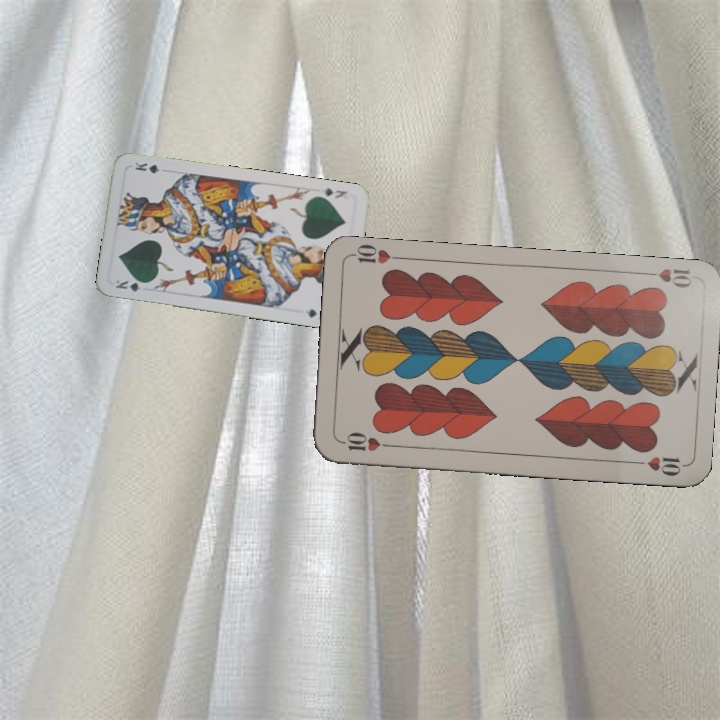GK: (112, 275, 151, 294), (317, 184, 350, 201)
H10: (639, 264, 694, 291), (337, 429, 396, 454)
